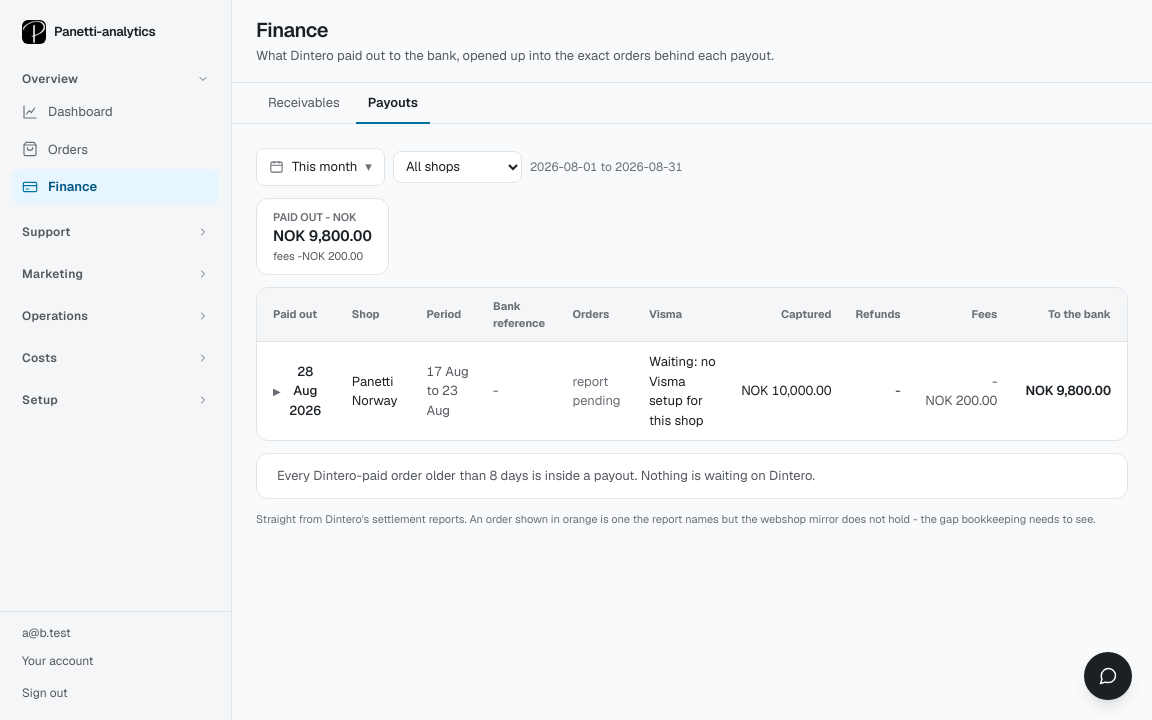
Test: PayoutsClient › an unfetched report reads as pending when opened, not as an empty payout
Click the button with aria-label "Open payout".
click(298, 391)  # box [273, 362, 324, 420]
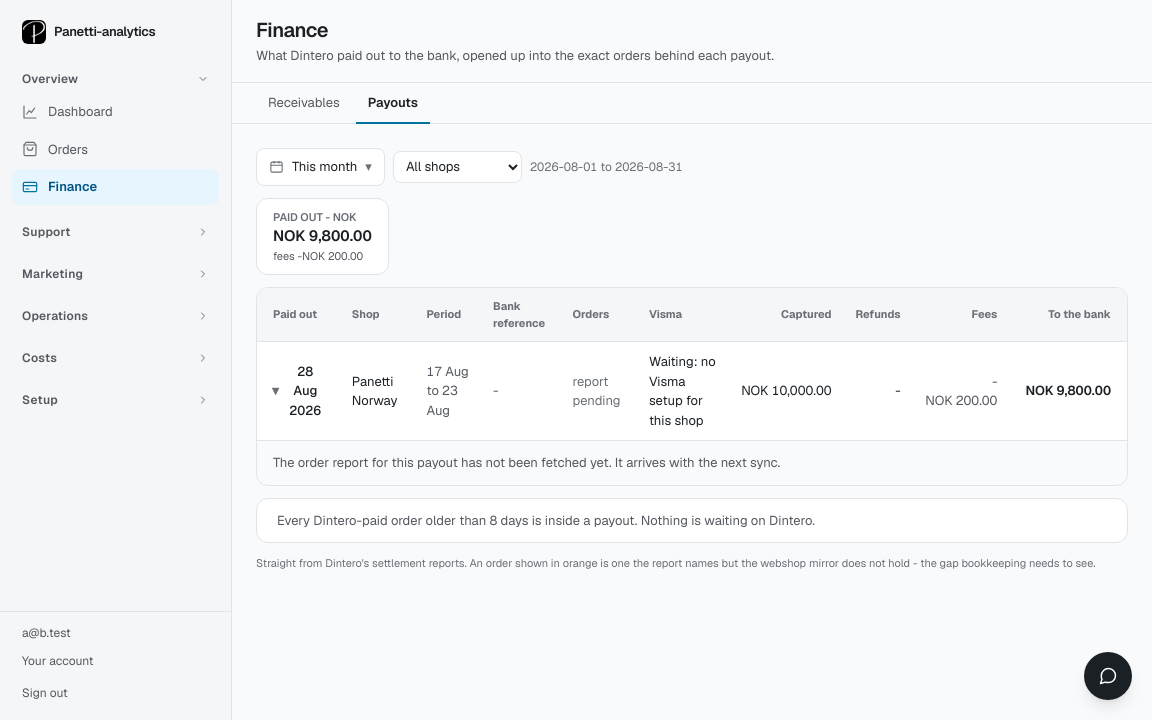
expect the text "has not been fetched yet" is shown: met, box [273, 454, 780, 471]
